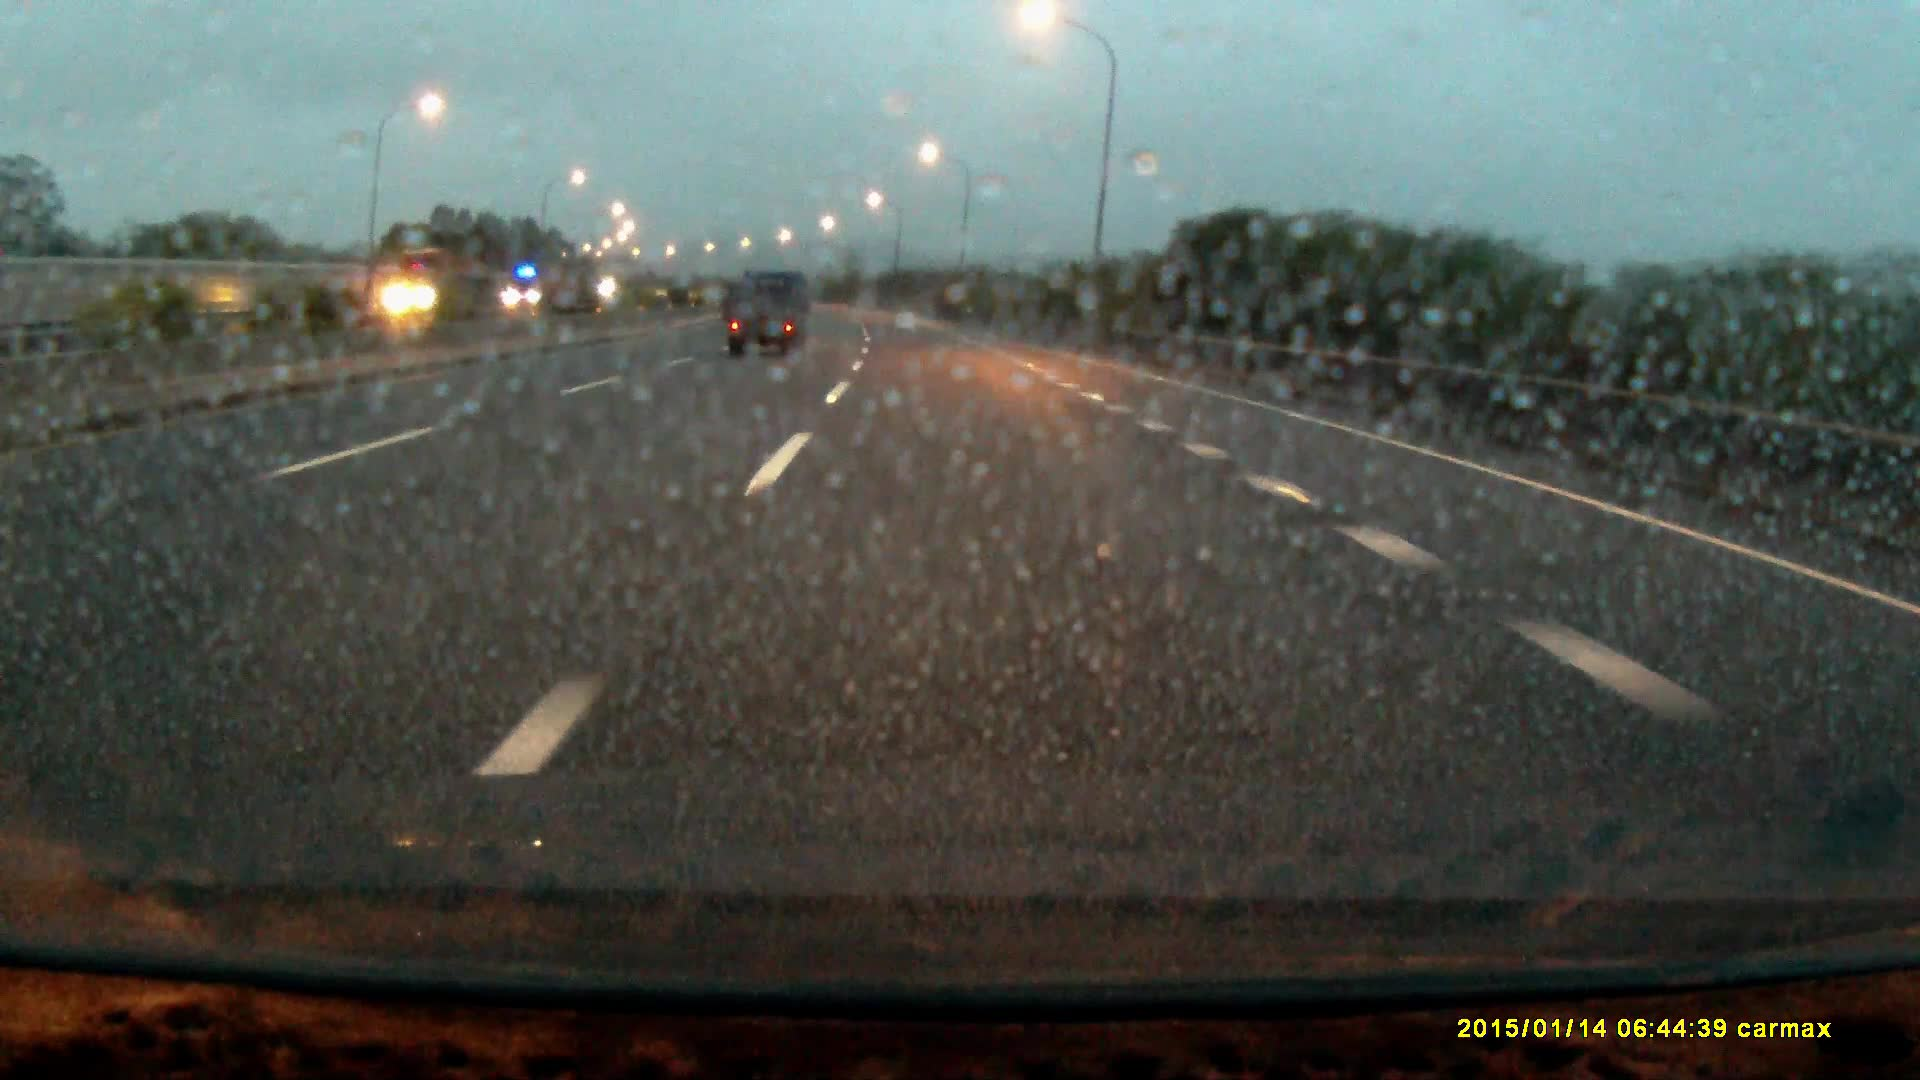vehicle: (728, 268, 808, 360), (389, 251, 491, 320), (504, 262, 572, 314)
